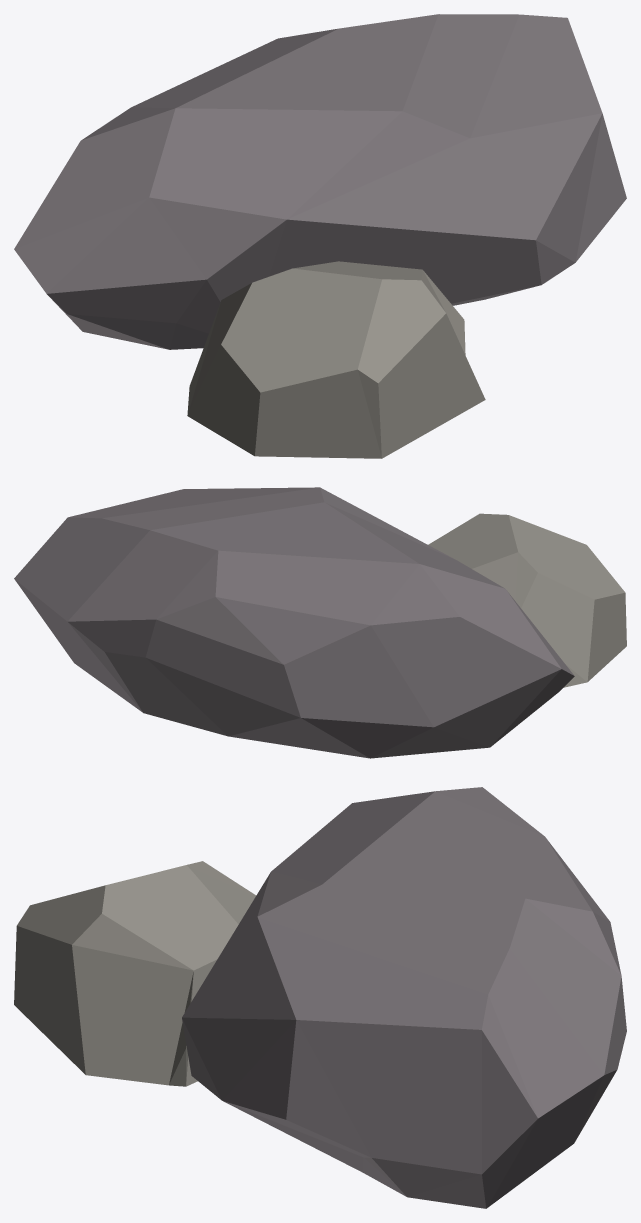
The model's file is Rocks_Round_m_02 2.fbx.
The picture shows the model from 3 angles, top to bottom: view 1: azimuth 30°, elevation 25°; view 2: azimuth 150°, elevation 25°; view 3: azimuth 270°, elevation 25°; orthographic projection. The views are drawn at different scales.
Visible parts, largest first — view 1: Rocks_Round_m_02; view 2: Rocks_Round_m_02; view 3: Rocks_Round_m_02.
Boxes of the visible parts, x1,y1,x2,y2 form: Rocks_Round_m_02: (14,14,626,458); Rocks_Round_m_02: (14,487,626,758); Rocks_Round_m_02: (14,787,626,1208).
Size of the model in its own units: 182 by 56.93 by 149.
